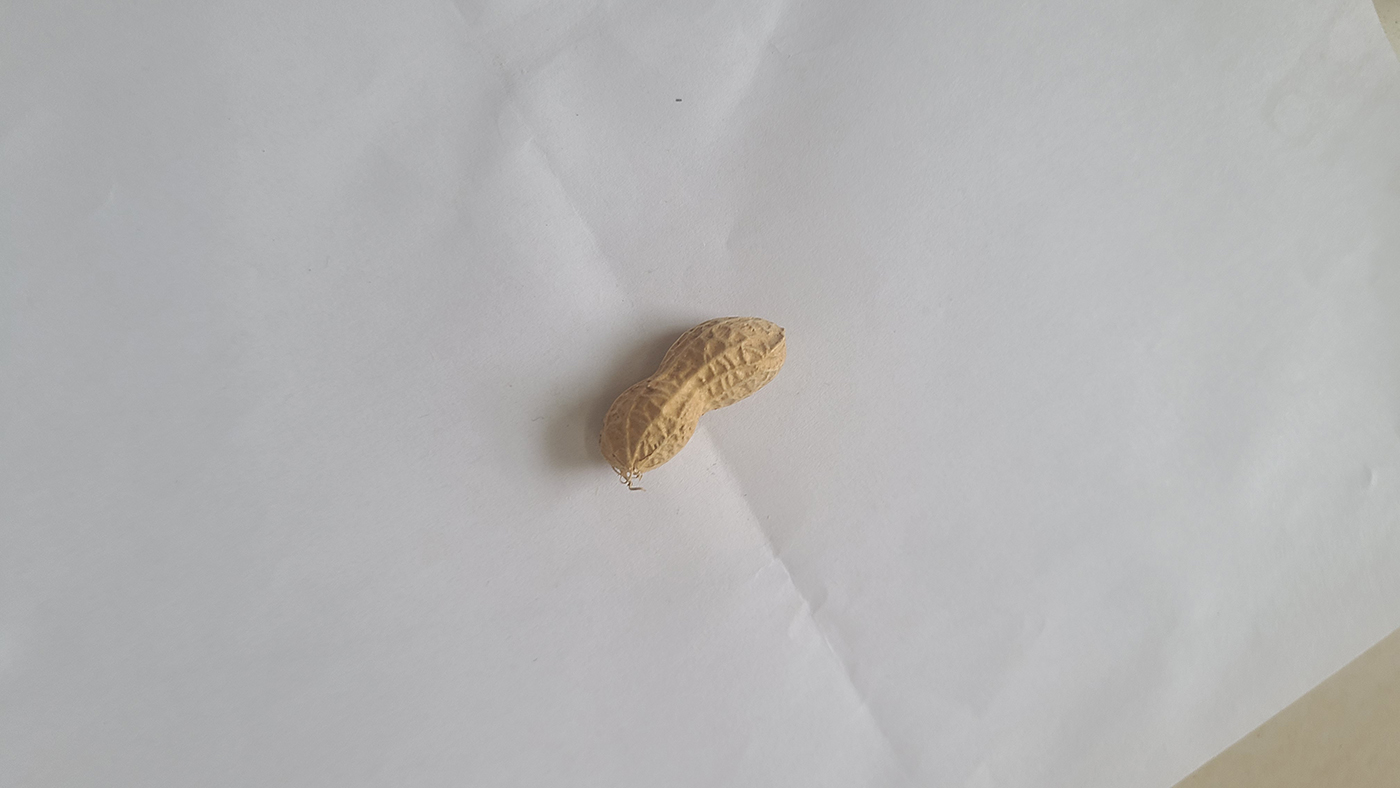h: (598, 313, 790, 473)
